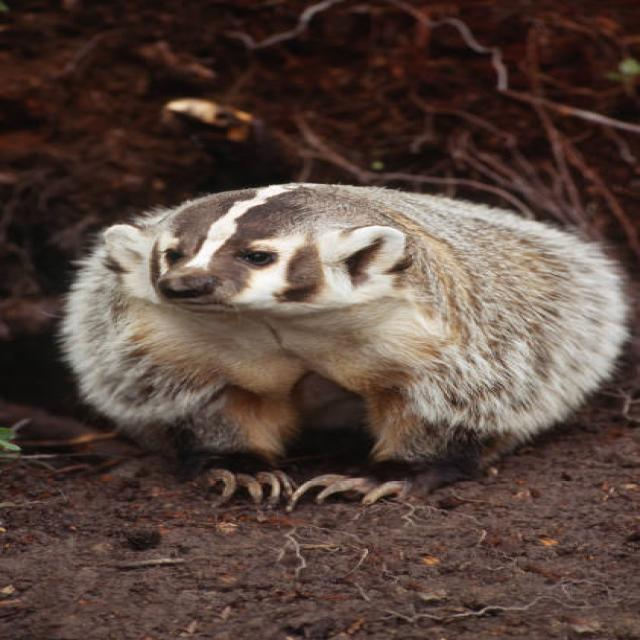Badger: (56, 183, 623, 502)
